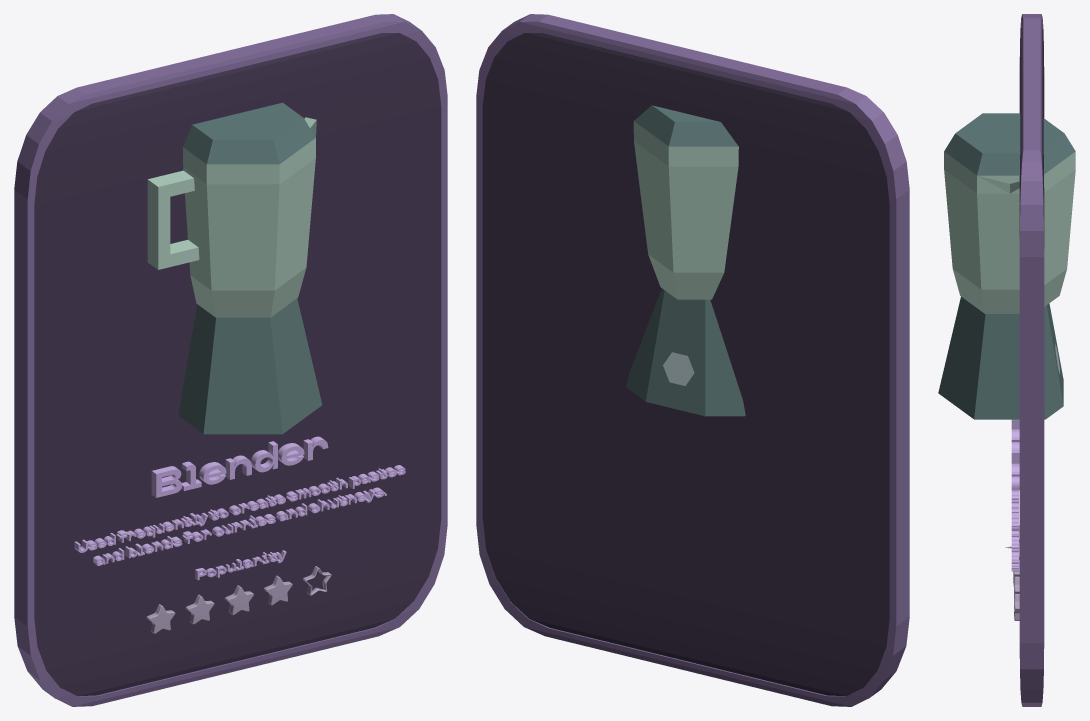
The model's file is blender.gltf.
The picture shows the model from 3 angles, left to right: view 1: azimuth 30°, elevation 25°; view 2: azimuth 150°, elevation 25°; view 3: azimuth 270°, elevation 25°; orthographic projection. The views are drawn at different scales.
Parts seen in each view (by area): view 1: Cube.001, kitchenBlender, Cube, Text.001, Text, Text.002; view 2: Cube.001, Cube, kitchenBlender; view 3: kitchenBlender, Cube, Cube.001, Text.001, Text.
Boxes of the visible parts, x1=… form: Cube.001: x1=34, y1=33, x2=441, y2=696; kitchenBlender: x1=147, y1=102, x2=322, y2=434; Cube: x1=14, y1=14, x2=447, y2=706; Text.001: x1=74, y1=465, x2=405, y2=565; Text: x1=151, y1=436, x2=328, y2=497; Text.002: x1=195, y1=550, x2=286, y2=580; Cube.001: x1=482, y1=33, x2=889, y2=696; Cube: x1=476, y1=14, x2=909, y2=706; kitchenBlender: x1=626, y1=105, x2=745, y2=416; kitchenBlender: x1=938, y1=113, x2=1075, y2=419; Cube: x1=1019, y1=14, x2=1044, y2=706; Cube.001: x1=1019, y1=27, x2=1044, y2=247; Text.001: x1=1005, y1=490, x2=1018, y2=571; Text: x1=1011, y1=419, x2=1019, y2=490.
Size of the model in its own units: 3.58 by 5 by 1.12.
